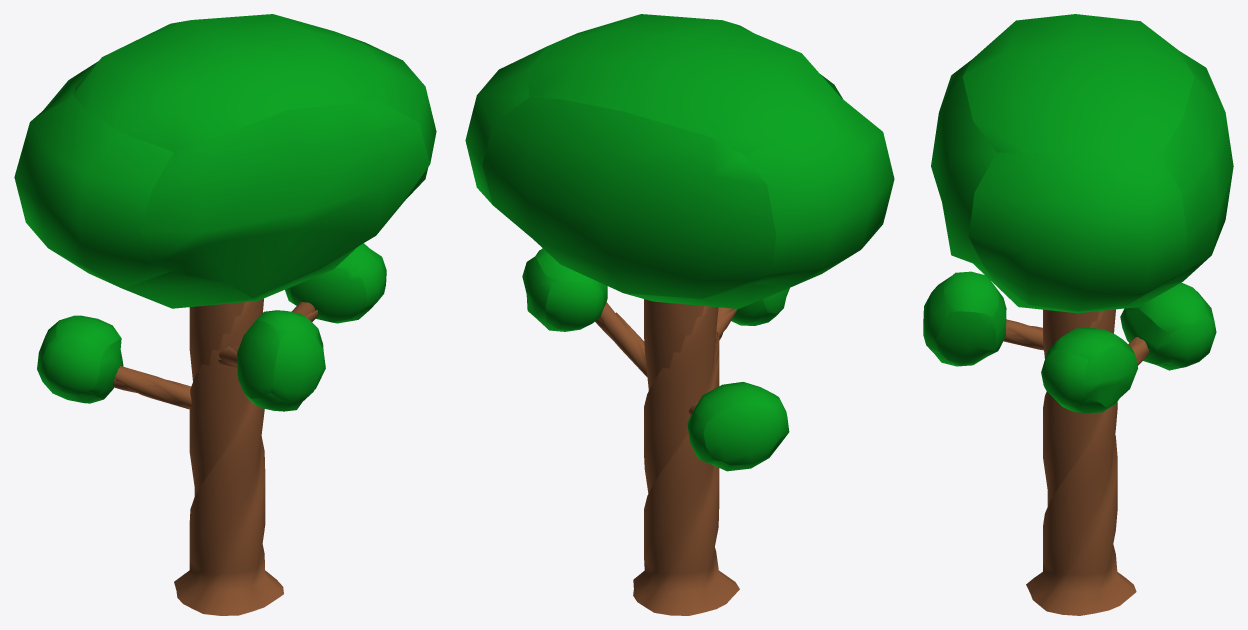
The model's file is tree.fbx.
3 renders of one model, left to right at view 1: azimuth 30°, elevation 25°; view 2: azimuth 150°, elevation 25°; view 3: azimuth 270°, elevation 25°, orthographic.
Visible parts, largest first — view 1: tree_leaves_sub5, tree_trunk, tree_leaves_sub4, tree_leaves_sub2, tree_leaves_sub3, tree_branch1; view 2: tree_leaves_sub5, tree_trunk, tree_leaves_sub2, tree_leaves_sub3, tree_branch, tree_leaves_sub4; view 3: tree_leaves_sub5, tree_trunk, tree_leaves_sub4, tree_leaves_sub3, tree_leaves_sub2, tree_branch2.
Part boxes in pixels (box(x1,y1,x2,y2)): tree_leaves_sub5: box(14, 14, 436, 308); tree_trunk: box(174, 298, 283, 615); tree_leaves_sub4: box(237, 310, 325, 411); tree_leaves_sub2: box(37, 315, 123, 403); tree_leaves_sub3: box(285, 243, 386, 323); tree_branch1: box(113, 366, 191, 409); tree_leaves_sub5: box(465, 14, 894, 308); tree_trunk: box(633, 299, 739, 615); tree_leaves_sub2: box(687, 382, 789, 471); tree_leaves_sub3: box(522, 248, 607, 331); tree_branch: box(595, 302, 647, 376); tree_leaves_sub4: box(731, 288, 789, 325); tree_leaves_sub5: box(931, 14, 1233, 313); tree_trunk: box(1026, 309, 1136, 615); tree_leaves_sub4: box(923, 271, 1006, 366); tree_leaves_sub3: box(1041, 328, 1137, 413); tree_leaves_sub2: box(1120, 282, 1216, 370); tree_branch2: box(1003, 319, 1043, 350).
Size of the model in its own units: 11.71 by 16.4 by 8.43.
